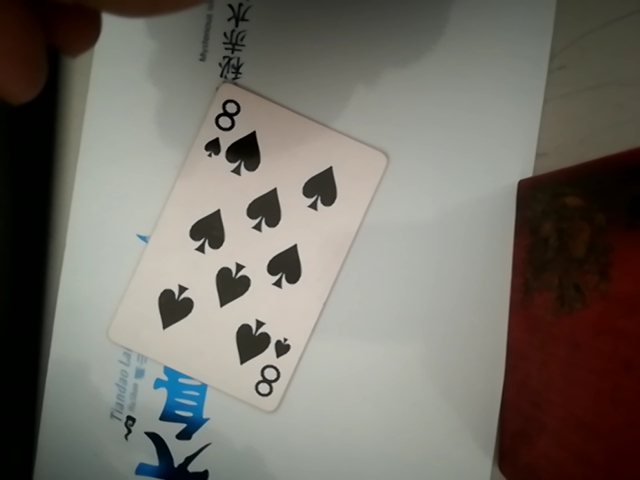ht 8: (122, 76, 383, 411)
